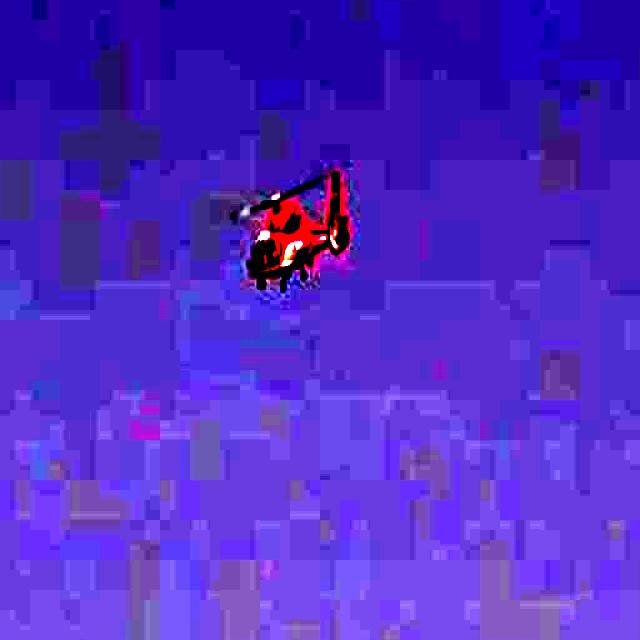drone: (188, 125, 419, 321)
